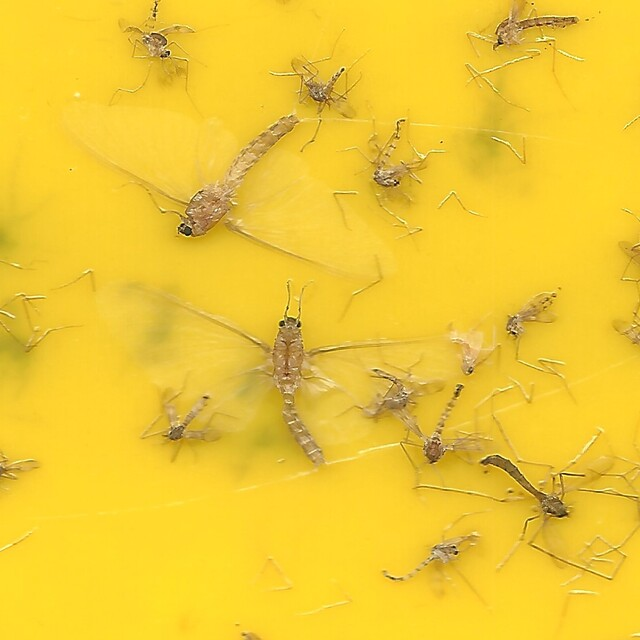Ephemeroptera: (116, 286, 441, 469), (58, 109, 376, 286)
Hemiptera: (446, 318, 486, 380)
Nematocera: (481, 449, 582, 523), (416, 383, 484, 467), (378, 534, 468, 587), (157, 388, 218, 445), (503, 286, 562, 344), (369, 126, 421, 190), (287, 53, 346, 106), (369, 364, 419, 414)
